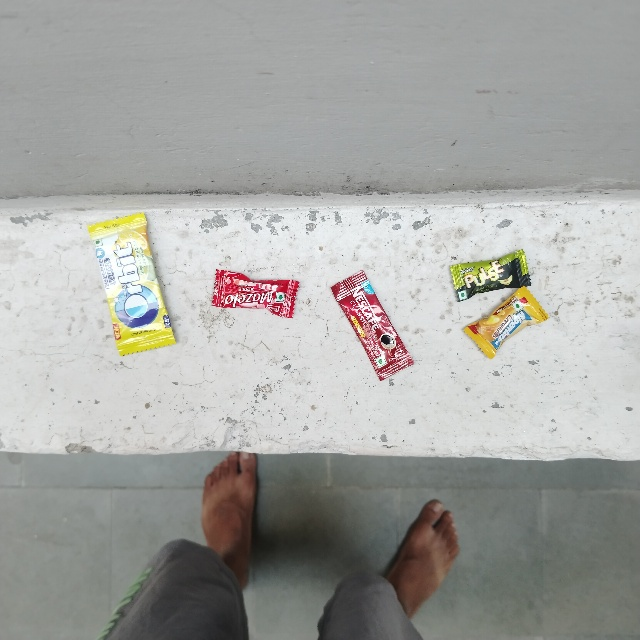Alpenlibe Creamfills: (460, 335, 543, 378)
Mazelo: (219, 266, 302, 307)
Nescafe Coffee: (329, 286, 372, 399)
Orbit: (80, 221, 148, 370), (95, 282, 99, 297)
Pulse: (445, 265, 529, 305)
